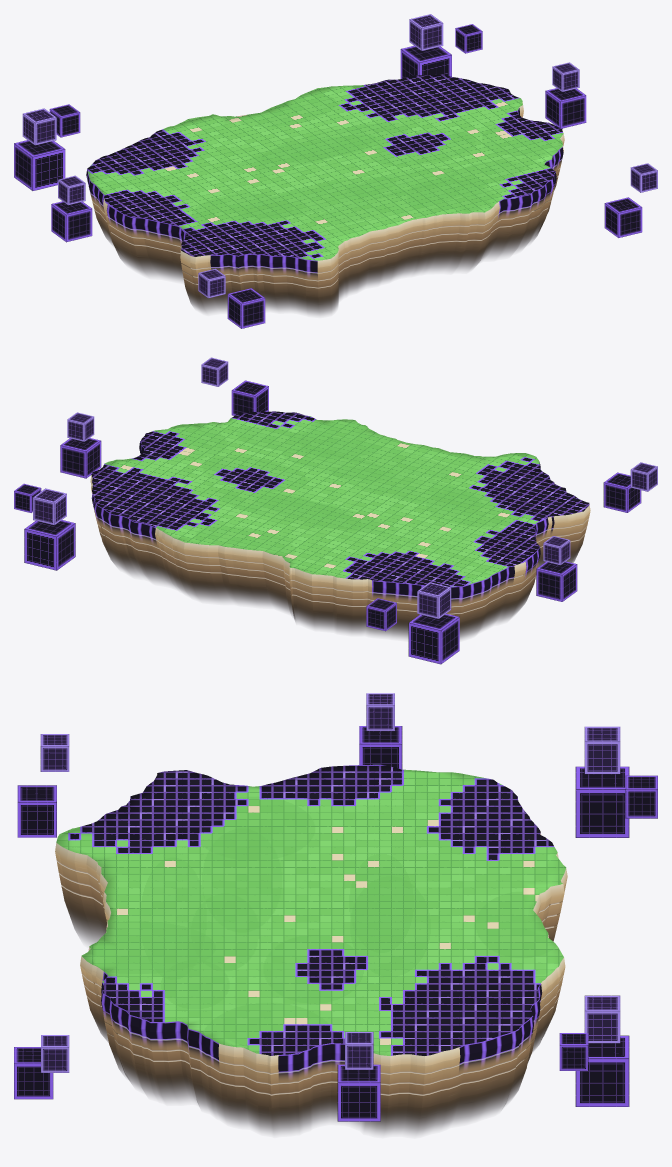
Rendered from digi_farm_3d.glb.
3 renders of one model, top to bottom at view 1: azimuth 30°, elevation 25°; view 2: azimuth 150°, elevation 25°; view 3: azimuth 270°, elevation 25°, orthographic. The views are drawn at different scales.
Visible parts, largest first — view 1: Island, VoxelFragmentsNear01, VoxelFragmentsNear02, VoxelFragmentsNear03, VoxelFragmentsNear04, VoxelFragmentsNear05, VoxelFragmentsNear06; view 2: Island, VoxelFragmentsNear01, VoxelFragmentsNear02, VoxelFragmentsNear03, VoxelFragmentsNear04, VoxelFragmentsNear05, VoxelFragmentsNear06; view 3: Island, VoxelFragmentsNear01, VoxelFragmentsNear02, VoxelFragmentsNear04, VoxelFragmentsNear05, VoxelFragmentsNear06, VoxelFragmentsNear03.
Part boxes in pixels (box(x1,y1,x2,y2)): Island: box(86, 74, 564, 314); VoxelFragmentsNear01: box(14, 104, 80, 190); VoxelFragmentsNear02: box(400, 14, 482, 78); VoxelFragmentsNear03: box(51, 175, 92, 242); VoxelFragmentsNear04: box(545, 62, 586, 128); VoxelFragmentsNear05: box(198, 268, 265, 328); VoxelFragmentsNear06: box(604, 163, 657, 237); Island: box(90, 411, 590, 639); VoxelFragmentsNear01: box(366, 582, 459, 664); VoxelFragmentsNear02: box(14, 483, 75, 570); VoxelFragmentsNear03: box(536, 536, 577, 601); VoxelFragmentsNear04: box(60, 412, 101, 478); VoxelFragmentsNear05: box(603, 462, 657, 512); VoxelFragmentsNear06: box(201, 357, 268, 415); Island: box(55, 764, 567, 1134); VoxelFragmentsNear01: box(575, 726, 657, 837); VoxelFragmentsNear02: box(559, 995, 629, 1106); VoxelFragmentsNear04: box(337, 1032, 380, 1121); VoxelFragmentsNear05: box(17, 734, 69, 837); VoxelFragmentsNear06: box(14, 1035, 69, 1099); VoxelFragmentsNear03: box(359, 693, 402, 769).
Bounding box in the file's own units: 2.36 × 0.49 × 1.8.
Materials: 5 (5 with a texture image).
